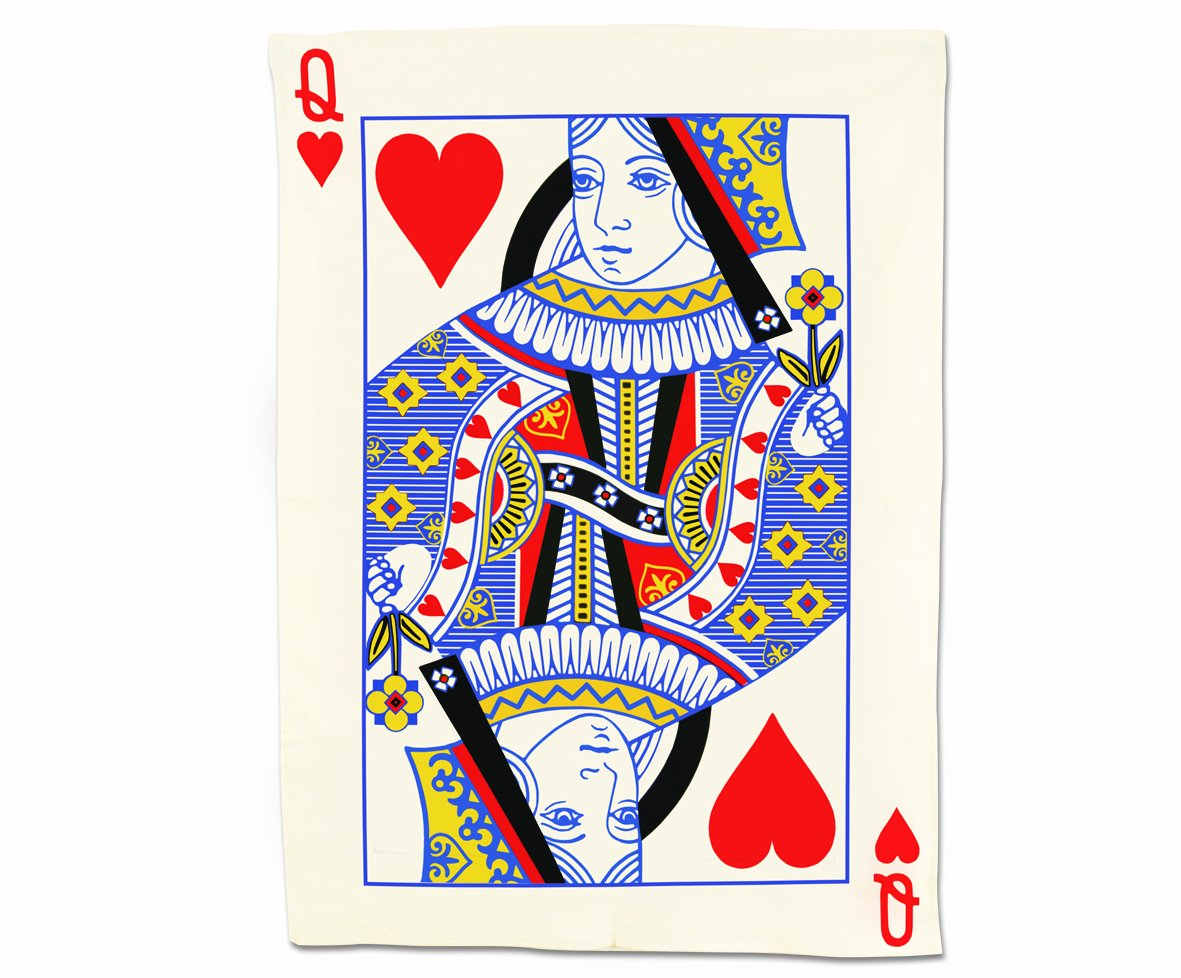queen of hearts: (268, 31, 949, 968)
